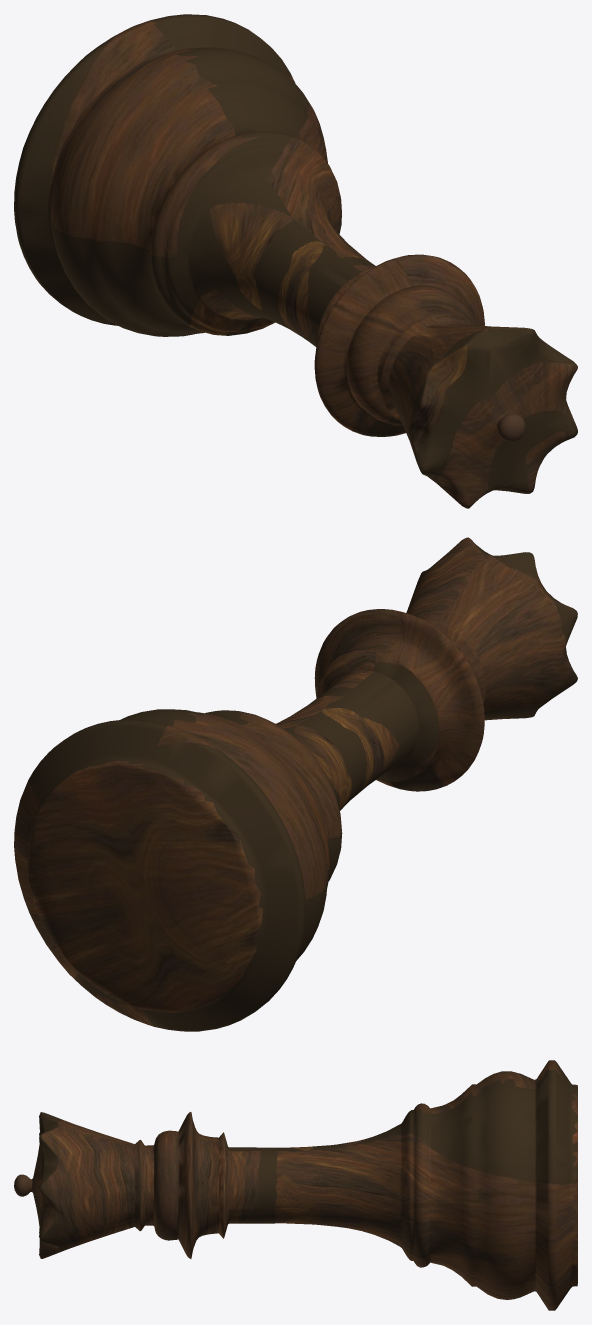
File: Regina_Nera_3k.obj
3 renders of one model, top to bottom at view 1: azimuth 30°, elevation 25°; view 2: azimuth 150°, elevation 25°; view 3: azimuth 270°, elevation 25°, orthographic. The views are drawn at different scales.
Visible parts, largest first — view 1: 12927_Wooden_Chess_Queen_side_A_v1_l3; view 2: 12927_Wooden_Chess_Queen_side_A_v1_l3; view 3: 12927_Wooden_Chess_Queen_side_A_v1_l3.
Part boxes in pixels (x1=…): 12927_Wooden_Chess_Queen_side_A_v1_l3: x1=14, y1=14, x2=577, y2=508; 12927_Wooden_Chess_Queen_side_A_v1_l3: x1=14, y1=537, x2=577, y2=1031; 12927_Wooden_Chess_Queen_side_A_v1_l3: x1=14, y1=1060, x2=577, y2=1310.
Size of the model in its own units: 4.51 by 4.51 by 10.16.
Materials: 1 (1 with a texture image).
